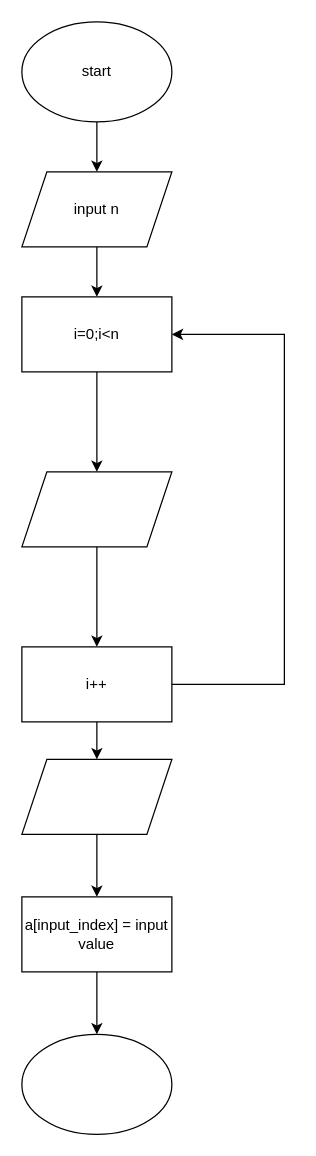
Some shapes in this 316 by 1156 pixel diagram are drawn without their labels. The shapes that lost their labels are listed below. From the top down, each one's centre as x and y in pixels, then its label:
At point 96,509: "input a[i]".
At point 96,796: "input update_index updatte_value".
At point 96,1083: "end".
